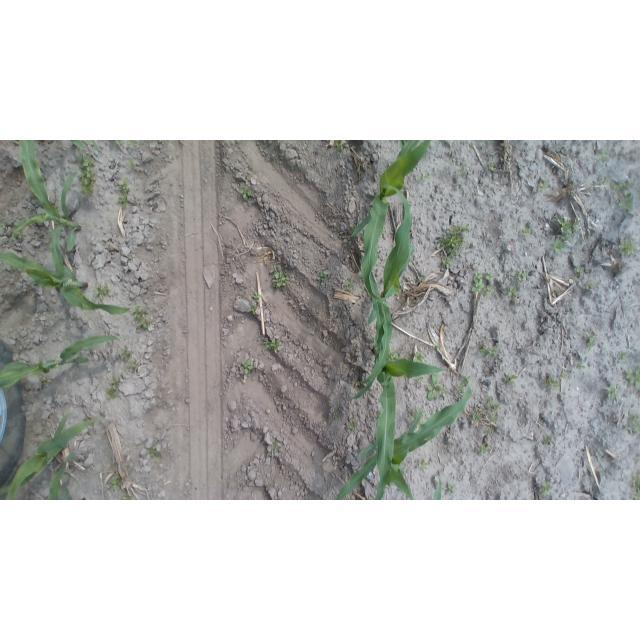Maize: (333, 380, 469, 500), (1, 217, 140, 314), (350, 140, 433, 298), (355, 191, 413, 394), (7, 140, 83, 274), (1, 413, 99, 500), (1, 331, 123, 389), (48, 459, 79, 499), (431, 473, 443, 500)
Weeds: (437, 222, 470, 264), (549, 216, 582, 253), (78, 155, 99, 196), (270, 266, 292, 291), (131, 305, 153, 330), (427, 374, 446, 400), (472, 271, 491, 294), (107, 376, 123, 400), (618, 192, 636, 213), (263, 336, 284, 352), (144, 445, 163, 462), (619, 239, 636, 258), (477, 341, 499, 355), (584, 330, 599, 350), (73, 140, 96, 153), (604, 383, 620, 401), (118, 179, 131, 201), (544, 374, 561, 390), (95, 283, 111, 300), (457, 373, 471, 391), (628, 413, 639, 435), (484, 396, 500, 411), (626, 368, 639, 386), (611, 180, 630, 192), (241, 359, 255, 375), (512, 269, 528, 283), (121, 346, 134, 363), (503, 372, 518, 386), (111, 476, 124, 491), (411, 408, 426, 421), (118, 190, 130, 206), (630, 473, 638, 497), (417, 458, 431, 471), (505, 286, 519, 299), (240, 186, 253, 200), (477, 442, 491, 454), (470, 411, 482, 424), (335, 140, 347, 153), (540, 482, 553, 494), (270, 438, 281, 452), (537, 180, 549, 192), (316, 271, 328, 283), (416, 171, 430, 181), (575, 265, 586, 277), (413, 353, 425, 364), (522, 226, 533, 238), (446, 482, 456, 495), (15, 229, 28, 239), (488, 416, 499, 427), (126, 159, 138, 169), (0, 221, 10, 233), (347, 420, 357, 432), (346, 280, 355, 293), (597, 151, 607, 162), (79, 356, 91, 365), (486, 286, 495, 298), (122, 491, 135, 499), (618, 350, 628, 360), (247, 305, 257, 315), (576, 361, 586, 371), (459, 165, 468, 176), (337, 231, 346, 242), (544, 435, 553, 446), (488, 159, 497, 170), (39, 376, 50, 385), (126, 140, 138, 148), (602, 175, 611, 185), (252, 292, 260, 303), (390, 352, 399, 361), (130, 360, 138, 369), (348, 222, 356, 231), (486, 426, 494, 435), (586, 283, 595, 291), (332, 411, 340, 419), (433, 344, 441, 351), (417, 374, 424, 382), (561, 372, 568, 380), (115, 140, 122, 146), (539, 420, 545, 427), (247, 164, 253, 170), (487, 140, 494, 144)
